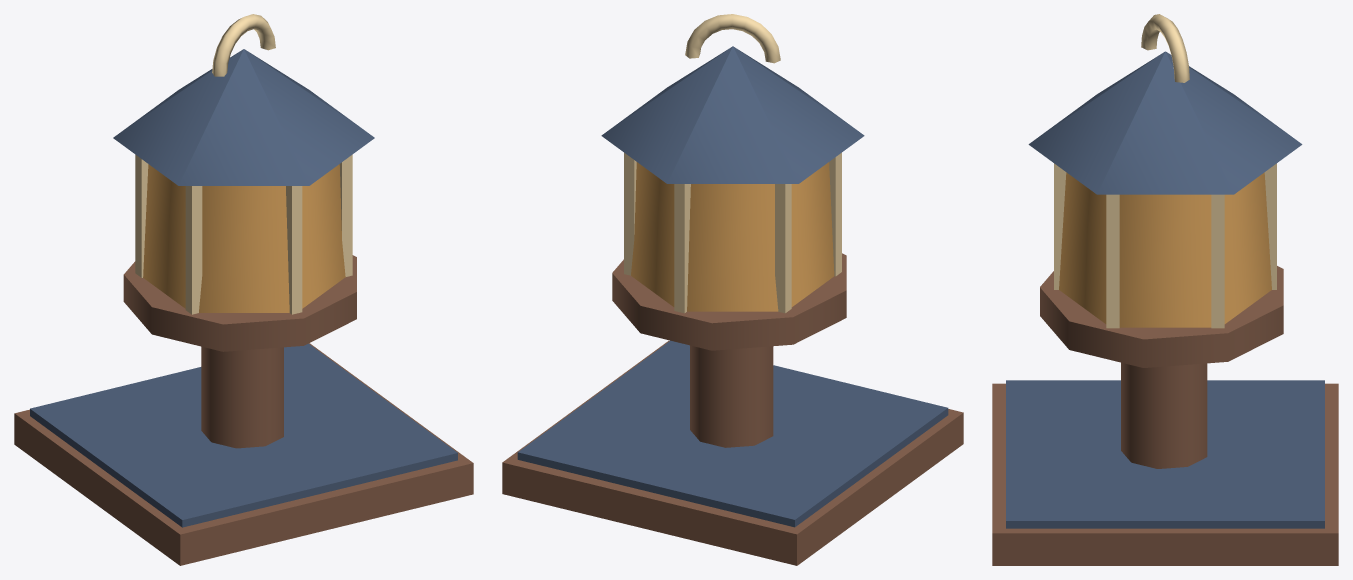
File: night_lantern.glb
3 views of the same model, side by side, from view 1: azimuth 30°, elevation 25°; view 2: azimuth 150°, elevation 25°; view 3: azimuth 270°, elevation 25° (orthographic). The views are drawn at different scales.
Parts seen in each view (by area): view 1: paper_top, folded_top, paper_diffuser, paper_base, lantern_bottom, stand, lantern_rib (×4), handle; view 2: paper_top, folded_top, paper_diffuser, paper_base, lantern_bottom, stand, lantern_rib (×4), handle; view 3: paper_top, paper_diffuser, folded_top, paper_base, lantern_bottom, stand, lantern_rib (×4), handle.
Boxes of the visible parts, x1,y1,x2,y2 form: paper_top: (30, 343, 457, 527); folded_top: (113, 49, 374, 185); paper_diffuser: (143, 164, 345, 312); paper_base: (14, 343, 473, 565); lantern_bottom: (123, 255, 356, 351); stand: (201, 346, 283, 448); lantern_rib (×4): (135, 154, 352, 314); handle: (212, 14, 275, 76); paper_top: (517, 340, 948, 527); folded_top: (601, 46, 864, 183); paper_diffuser: (631, 162, 834, 311); paper_base: (502, 340, 963, 565); lantern_bottom: (612, 253, 846, 350); stand: (690, 345, 773, 447); lantern_rib (×4): (624, 152, 841, 313); handle: (685, 14, 780, 63); paper_top: (1006, 380, 1324, 528); paper_diffuser: (1059, 172, 1271, 327); folded_top: (1028, 51, 1302, 194); paper_base: (992, 383, 1338, 565); lantern_bottom: (1040, 266, 1283, 367); stand: (1121, 362, 1207, 468); lantern_rib (×4): (1054, 163, 1276, 328); handle: (1141, 14, 1189, 82).
Size of the model in its own units: 0.93 by 1.37 by 0.91.
